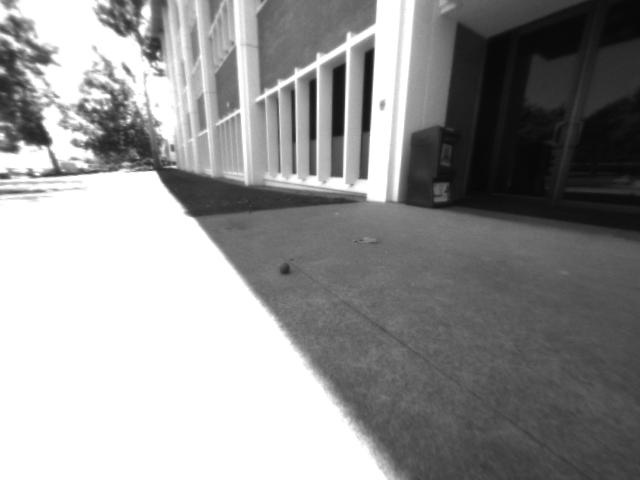dogtoy: (272, 256, 301, 282)
